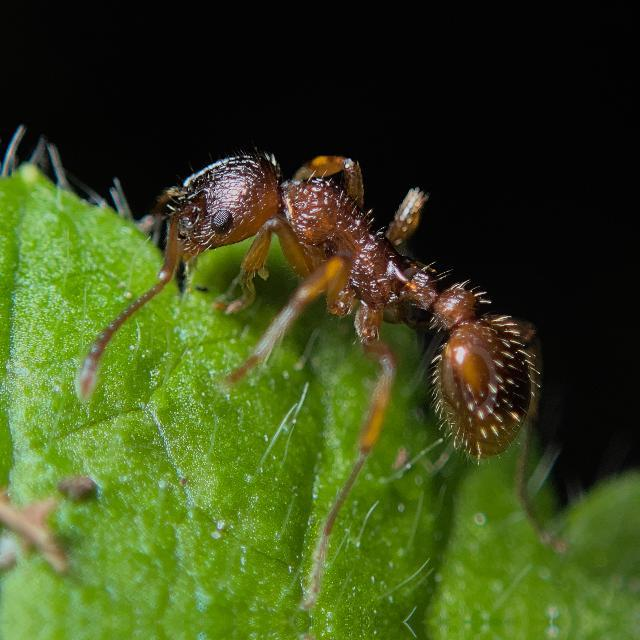Myrmica: (89, 86, 592, 486)
